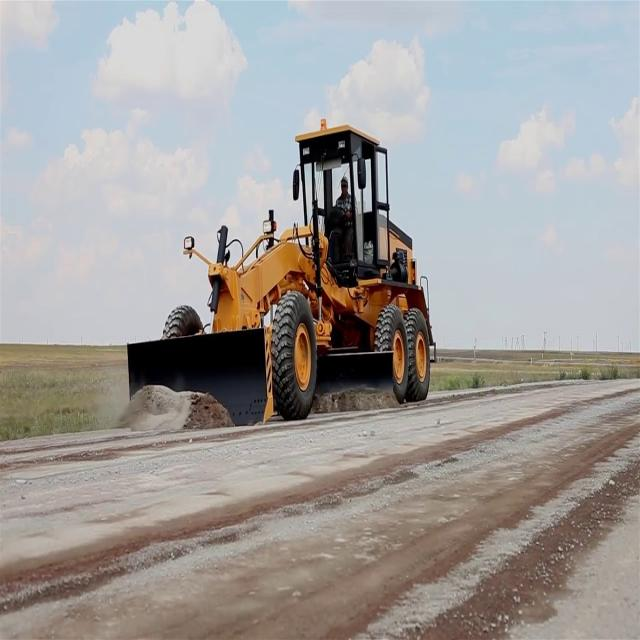buldozerpayloadergrader: (127, 125, 431, 426)
